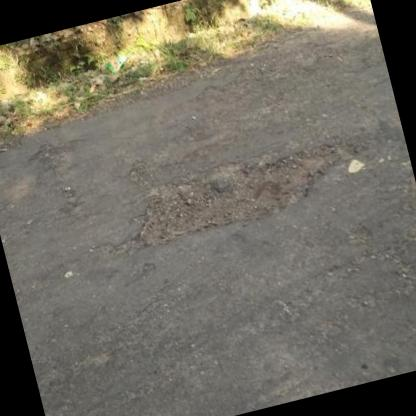pothole: (122, 130, 370, 256), (27, 134, 86, 163)
